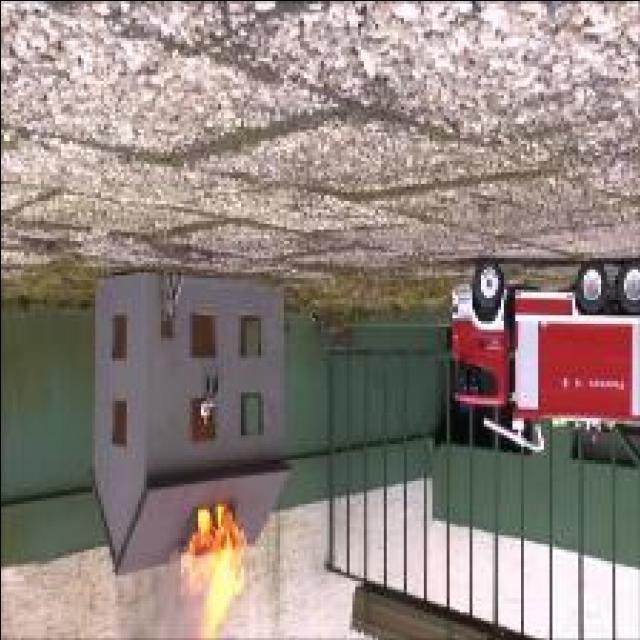Fire: (178, 504, 245, 638)
